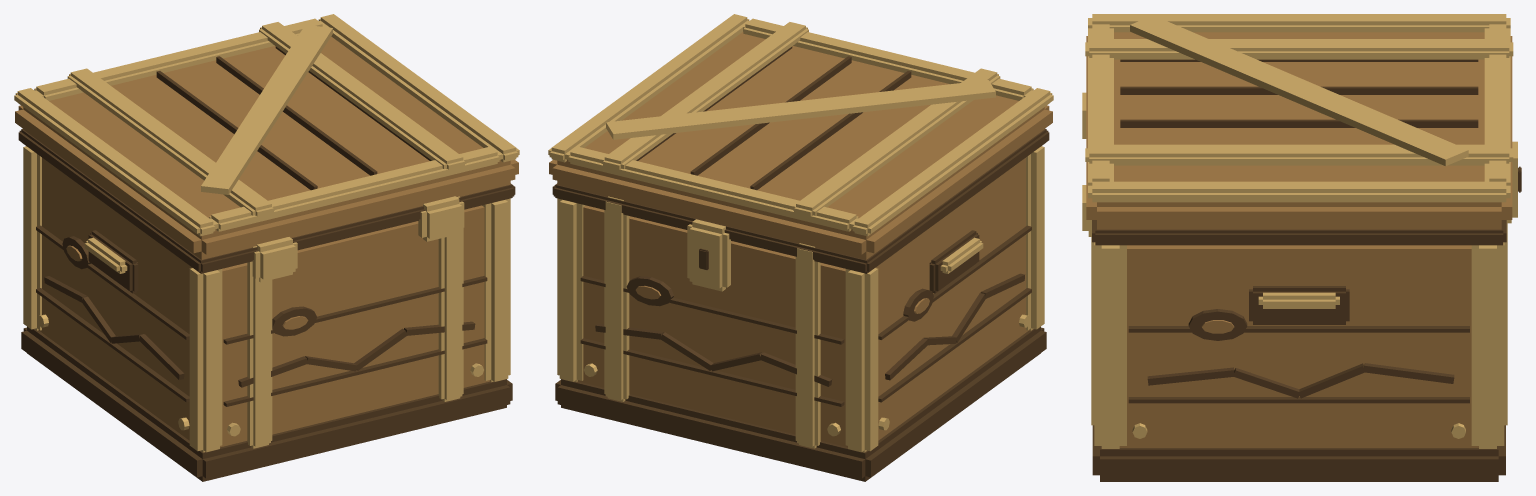
Rendered from crate_default.fbx.
The picture shows the model from 3 angles, left to right: view 1: azimuth 30°, elevation 25°; view 2: azimuth 150°, elevation 25°; view 3: azimuth 270°, elevation 25°; orthographic projection. The views are drawn at different scales.
Parts seen in each view (by area): view 1: crate_default_caixa; view 2: crate_default_caixa; view 3: crate_default_caixa.
Part boxes in pixels (x1,y1,x2,y2): crate_default_caixa: (14, 14, 519, 481); crate_default_caixa: (548, 14, 1053, 481); crate_default_caixa: (1082, 14, 1521, 481).
Size of the model in its own units: 2.68 by 2.11 by 2.7.
Materials: 1 (1 with a texture image).
